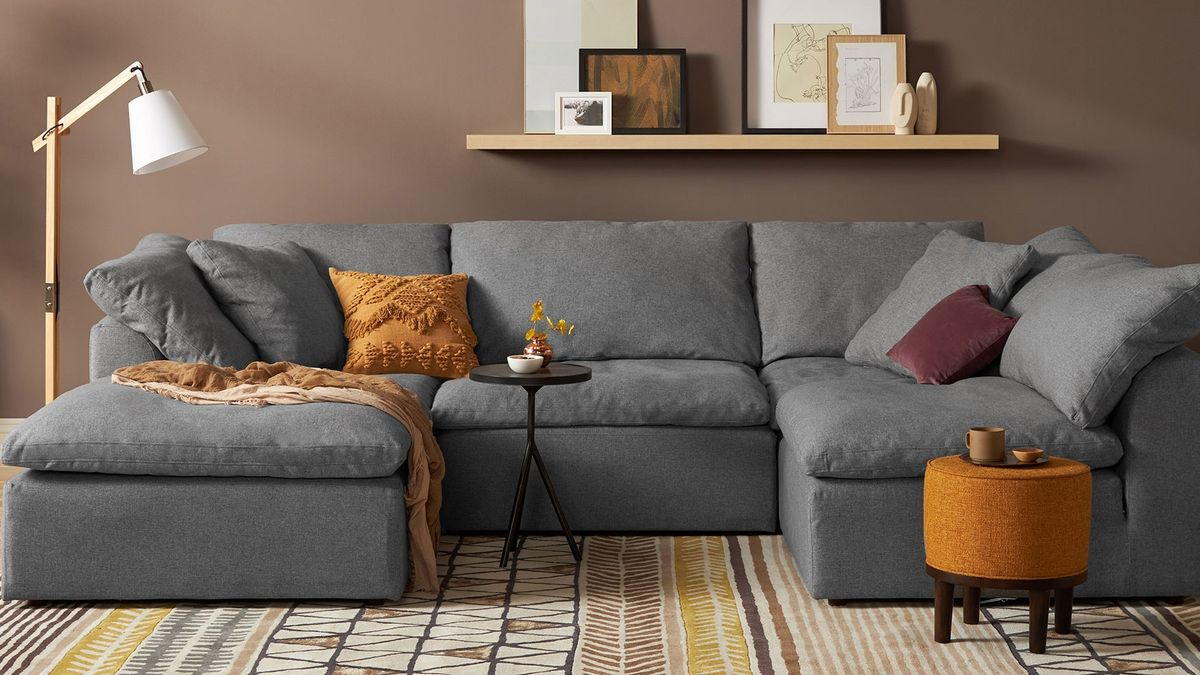bantal: (868, 236, 1013, 362), (208, 236, 332, 366), (105, 242, 233, 365), (339, 267, 474, 378), (897, 292, 1011, 383)
gelas: (961, 426, 1007, 467)
lampu: (119, 82, 213, 184)
lukisan: (739, 1, 887, 130), (520, 1, 637, 131), (578, 45, 691, 135), (824, 31, 907, 133), (555, 90, 615, 134)
sova: (7, 214, 1199, 601)
